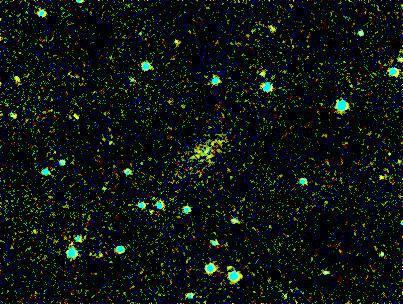star: (4, 64, 34, 94)
